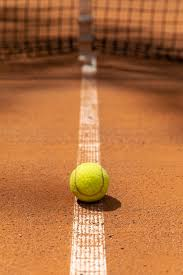tennis_ball: (69, 163, 108, 202)
